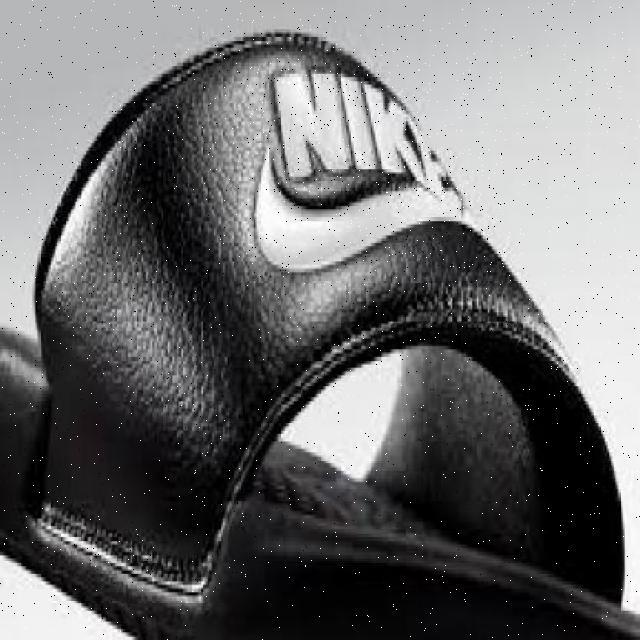Nike: (246, 59, 506, 273)
